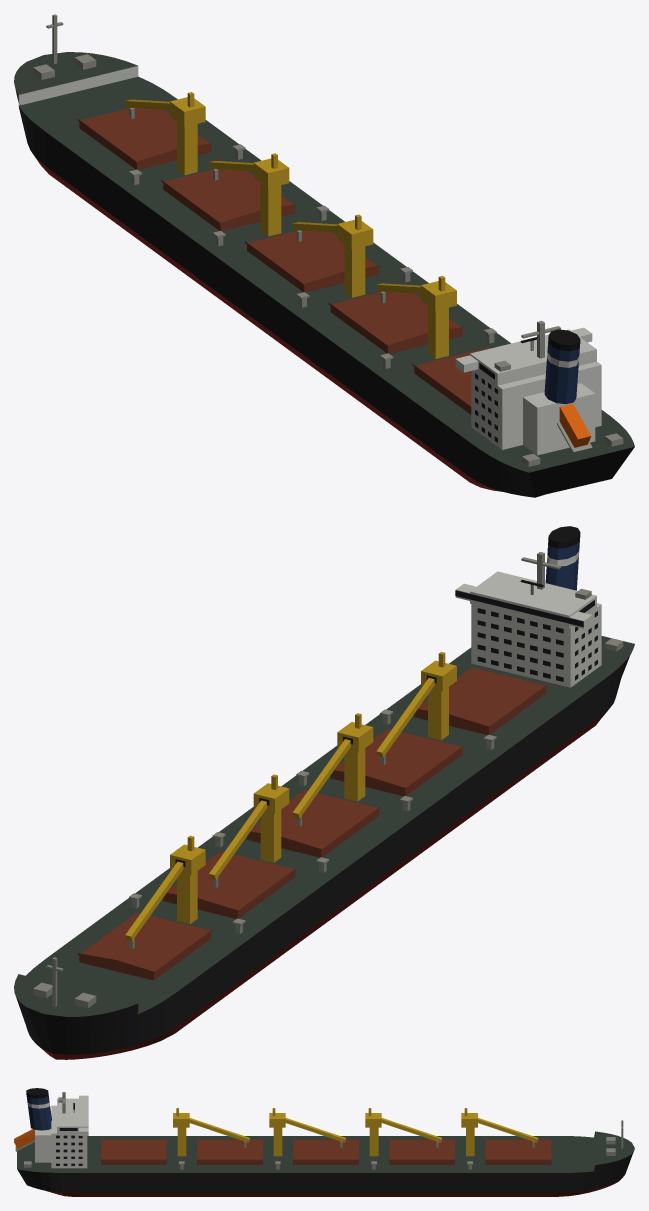
File: ship_bulk.glb
The picture shows the model from 3 angles, top to bottom: view 1: azimuth 30°, elevation 25°; view 2: azimuth 150°, elevation 25°; view 3: azimuth 270°, elevation 25°; orthographic projection. The views are drawn at different scales.
Parts seen in each view (by area): view 1: bulk_LOD0; view 2: bulk_LOD0; view 3: bulk_LOD0.
Boxes of the visible parts, <box> form: bulk_LOD0: <box>14,14,634,497</box>; bulk_LOD0: <box>14,526,634,1059</box>; bulk_LOD0: <box>14,1088,634,1196</box>.
Size of what is drawn, in the model's own units: 32 by 35.3 by 226.
